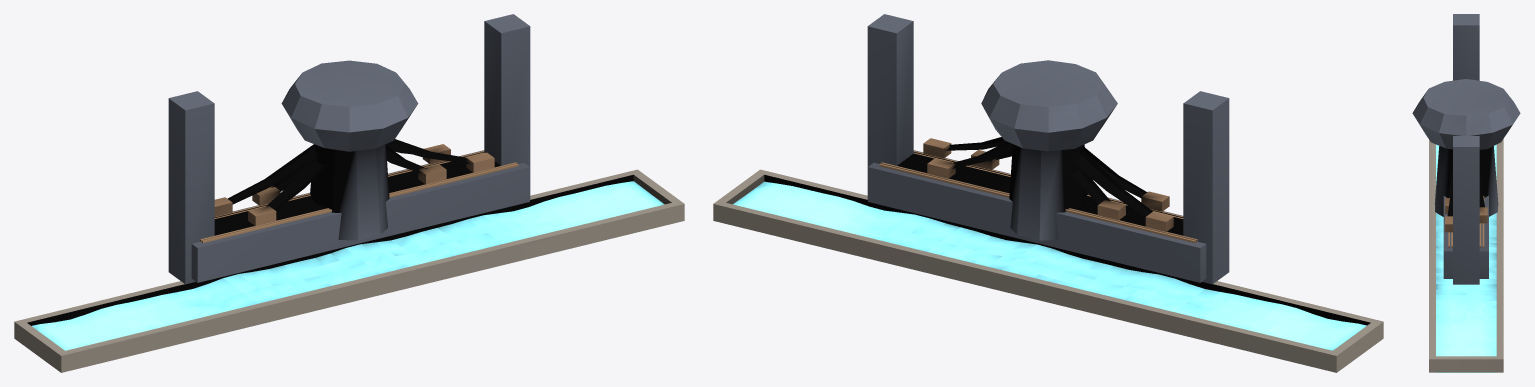
File: great_loom.glb
3 views of the same model, side by side, from view 1: azimuth 30°, elevation 25°; view 2: azimuth 150°, elevation 25°; view 3: azimuth 270°, elevation 25° (orthographic). The views are drawn at different scales.
Parts seen in each view (by area): view 1: great_loom; view 2: great_loom; view 3: great_loom.
Boxes of the visible parts, box(x1,y1,x2,y2) form: great_loom: box(14, 14, 684, 372); great_loom: box(713, 14, 1383, 372); great_loom: box(1412, 14, 1520, 372).
Bounding box in the file's own units: 30 × 10.15 × 5.7.
